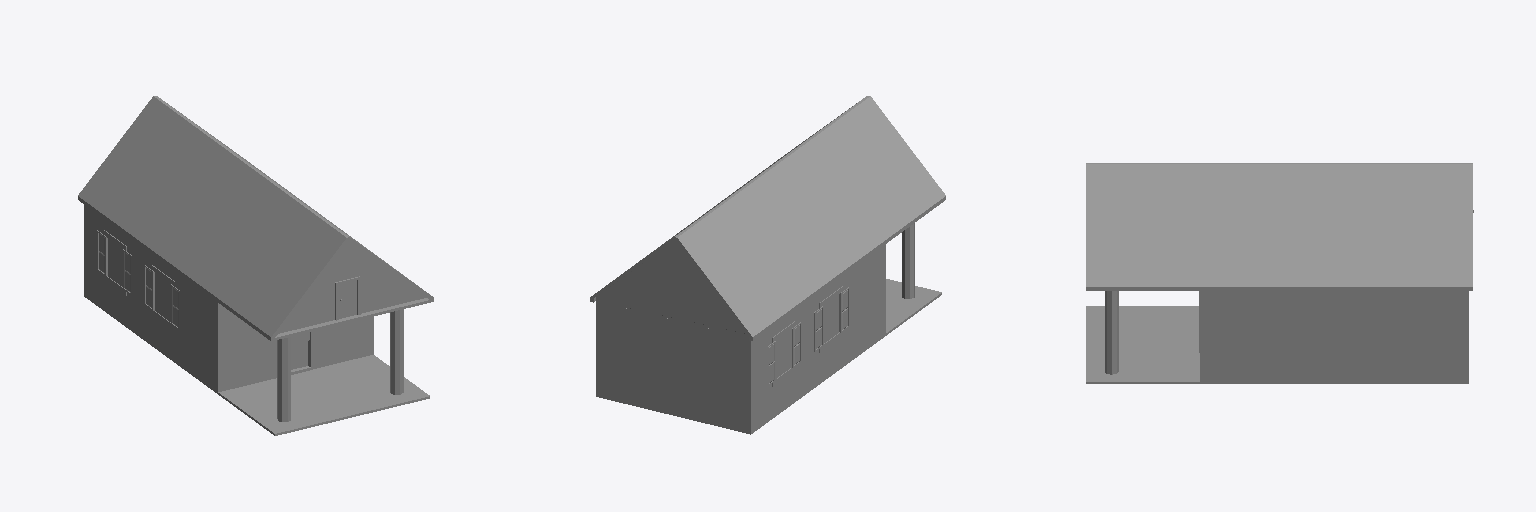
Rendered from Wooden_House.obj.
3 renders of one model, left to right at view 1: azimuth 30°, elevation 25°; view 2: azimuth 150°, elevation 25°; view 3: azimuth 270°, elevation 25°, orthographic.
Parts seen in each view (by area): view 1: Domik_Mesh; view 2: Domik_Mesh; view 3: Domik_Mesh.
Part boxes in pixels (bbox=[...]): Domik_Mesh: bbox=[78, 96, 433, 435]; Domik_Mesh: bbox=[590, 96, 945, 434]; Domik_Mesh: bbox=[1086, 163, 1473, 383].
Size of the model in its own units: 4.05 by 4.29 by 8.32.